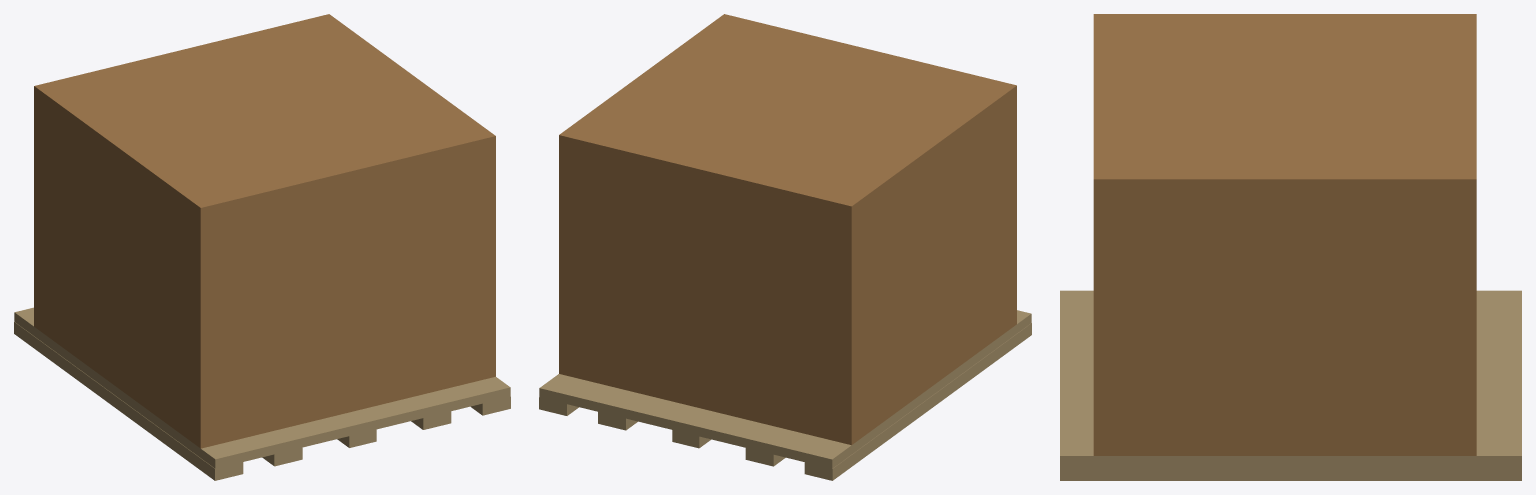
File: boxonpallet.fbx
3 renders of one model, left to right at view 1: azimuth 30°, elevation 25°; view 2: azimuth 150°, elevation 25°; view 3: azimuth 270°, elevation 25°, orthographic. The views are drawn at different scales.
Parts seen in each view (by area): view 1: boxonpallet; view 2: boxonpallet; view 3: boxonpallet.
Boxes of the visible parts, x1,y1,x2,y2 form: boxonpallet: (14, 14, 510, 480); boxonpallet: (539, 14, 1031, 480); boxonpallet: (1060, 14, 1521, 480).
Size of the model in its own units: 170 by 144 by 200.
